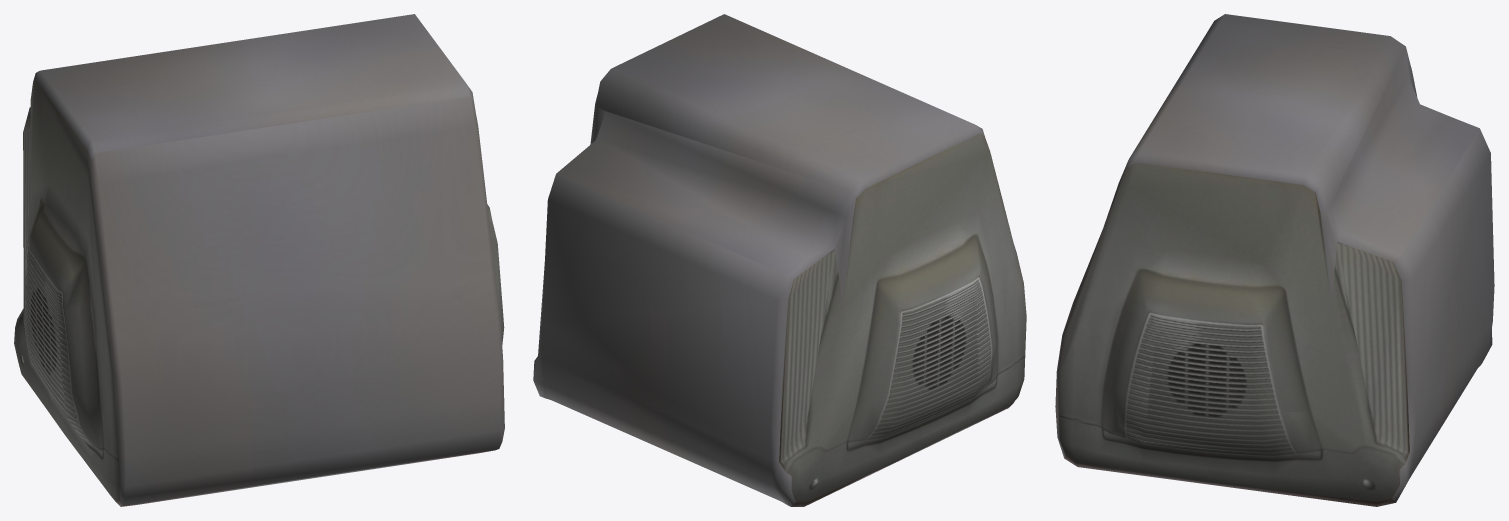
Rendered from CRT_TV4.glb.
3 views of the same model, side by side, from view 1: azimuth 30°, elevation 25°; view 2: azimuth 150°, elevation 25°; view 3: azimuth 270°, elevation 25° (orthographic). The views are drawn at different scales.
Visible parts, largest first — view 1: crtTV4; view 2: crtTV4; view 3: crtTV4.
Part boxes in pixels (box(x1,y1,x2,y2)): crtTV4: box(14, 14, 504, 506); crtTV4: box(533, 14, 1026, 506); crtTV4: box(1055, 14, 1494, 506).
Size of what is drawn, in the model's own units: 0.896 by 0.7342 by 0.8728.
3 materials, 3 textured.
